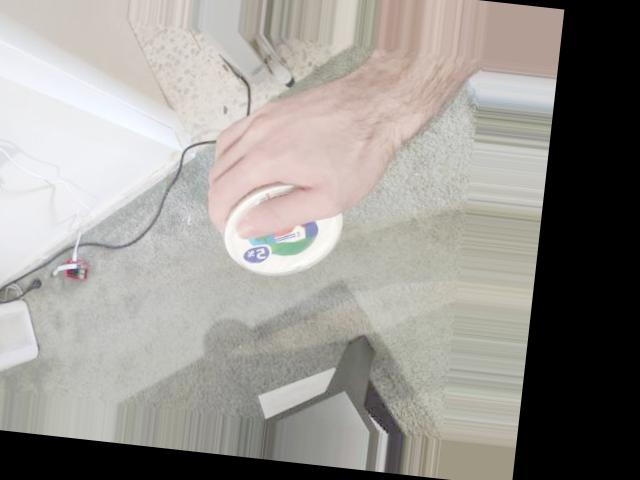cotage: (218, 167, 346, 283)
